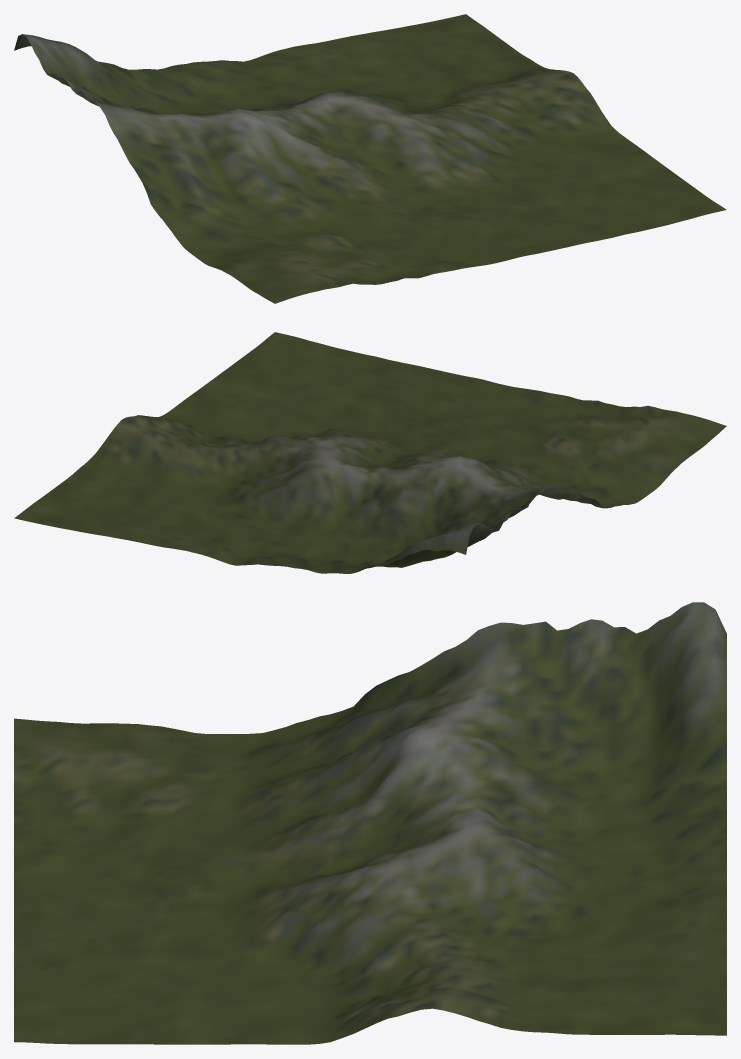
Rendered from TownLandscape_Mesh_x0125_0_3.fbx.
The picture shows the model from 3 angles, top to bottom: view 1: azimuth 30°, elevation 25°; view 2: azimuth 150°, elevation 25°; view 3: azimuth 270°, elevation 25°; orthographic projection. The views are drawn at different scales.
Visible parts, largest first — view 1: Terrain; view 2: Terrain; view 3: Terrain.
Boxes of the visible parts, bbox=[...] form: Terrain: bbox=[14, 14, 726, 303]; Terrain: bbox=[14, 332, 726, 573]; Terrain: bbox=[14, 602, 726, 1044].
Size of the model in its own units: 1024 by 224 by 1024.
